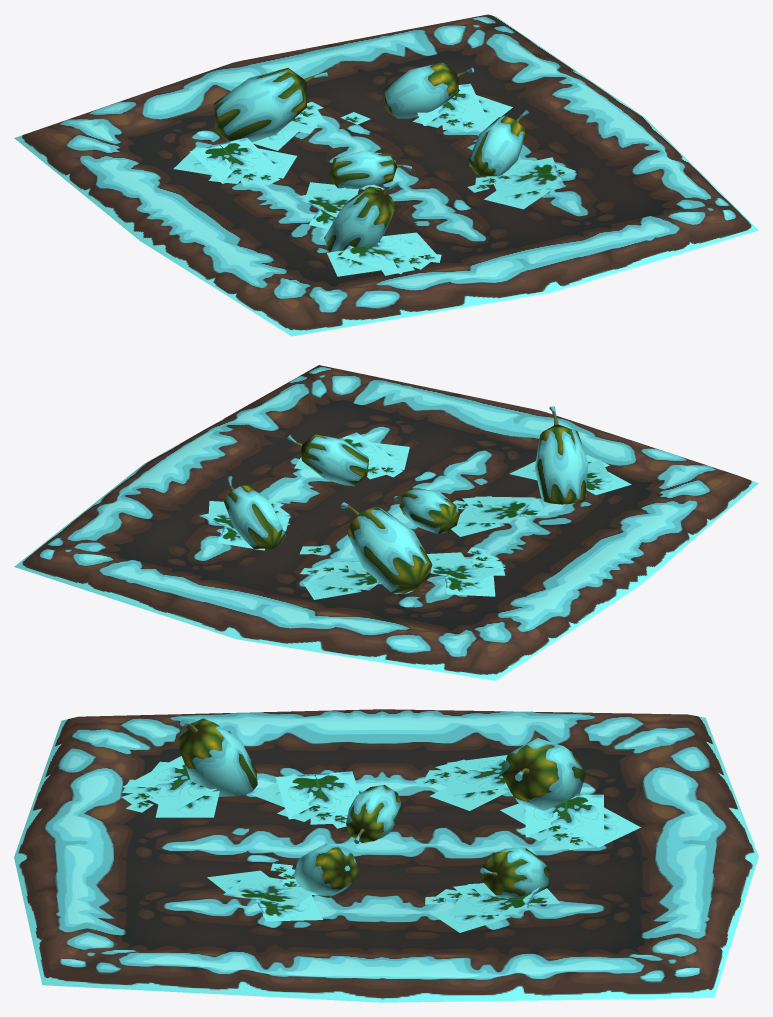
Rendered from Paddy2.FBX.
3 views of the same model, one above another, from view 1: azimuth 30°, elevation 25°; view 2: azimuth 150°, elevation 25°; view 3: azimuth 270°, elevation 25° (orthographic). The views are drawn at different scales.
Parts seen in each view (by area): view 1: Line1658; view 2: Line1658; view 3: Line1658.
Boxes of the visible parts, <box> form: Line1658: <box>14,14,758,336</box>; Line1658: <box>14,365,758,680</box>; Line1658: <box>14,709,758,1002</box>.
Size of the model in its own units: 274 by 43.43 by 296.
Materials: 1 (1 with a texture image).
